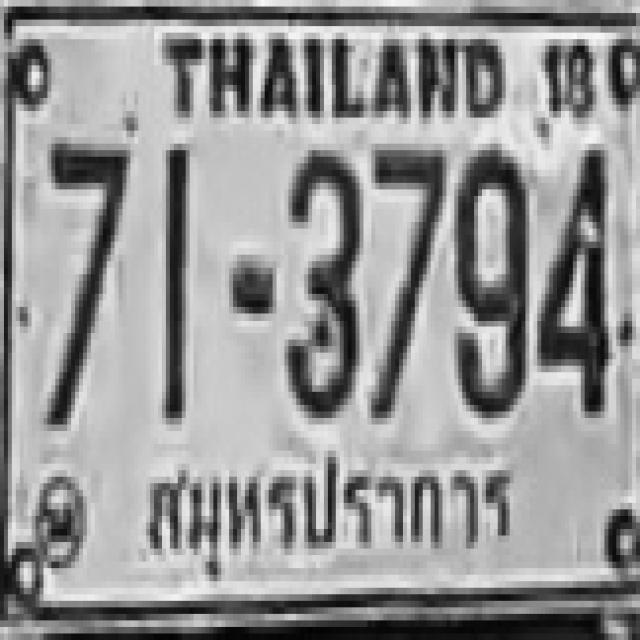1: (162, 137, 186, 418), (160, 144, 184, 418)
3: (282, 144, 358, 412)
4: (534, 144, 604, 412)
7: (47, 137, 126, 425), (368, 140, 442, 415)
9: (450, 144, 526, 412)
SamutPrakan: (124, 435, 528, 593)
